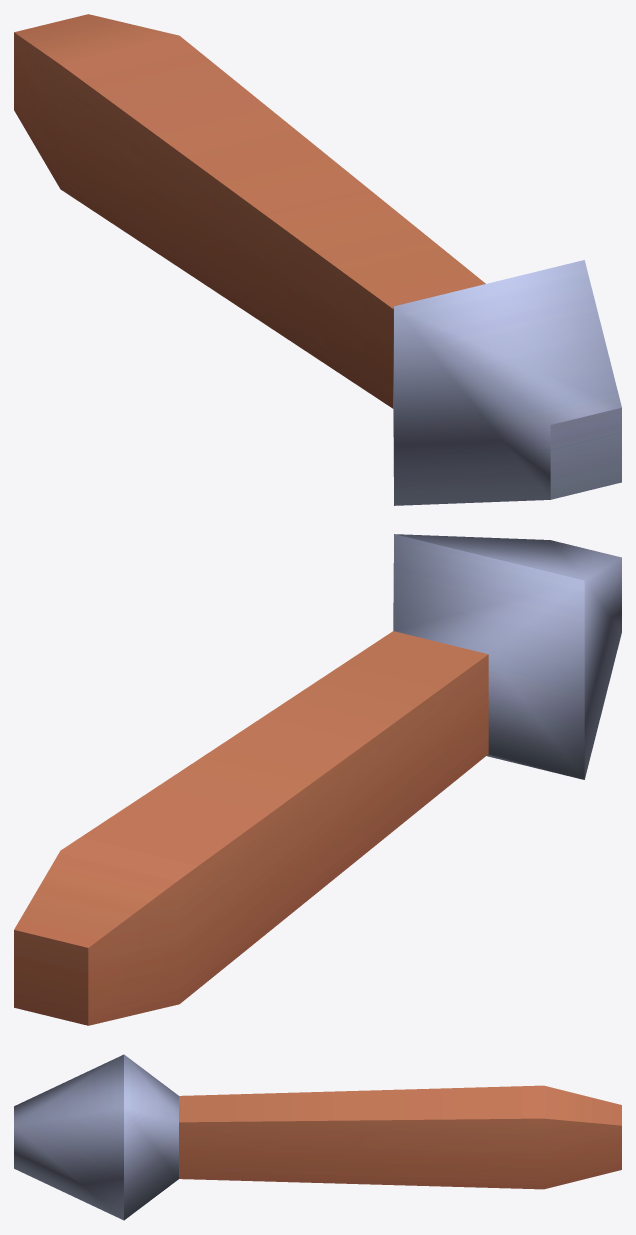
The model's file is kenney-tower-defense-weapon-ammo-arrow.glb.
3 views of the same model, one above another, from view 1: azimuth 30°, elevation 25°; view 2: azimuth 150°, elevation 25°; view 3: azimuth 270°, elevation 25° (orthographic). The views are drawn at different scales.
Parts seen in each view (by area): view 1: weapon-ammo-arrow; view 2: weapon-ammo-arrow; view 3: weapon-ammo-arrow.
Part boxes in pixels (left/top/right/bottom): weapon-ammo-arrow: left=14, top=14, right=621, bottom=505; weapon-ammo-arrow: left=14, top=534, right=621, bottom=1025; weapon-ammo-arrow: left=14, top=1054, right=621, bottom=1220.
Size of the model in its own units: 0.1599 by 0.1599 by 0.7776.
1 material, 1 textured.
